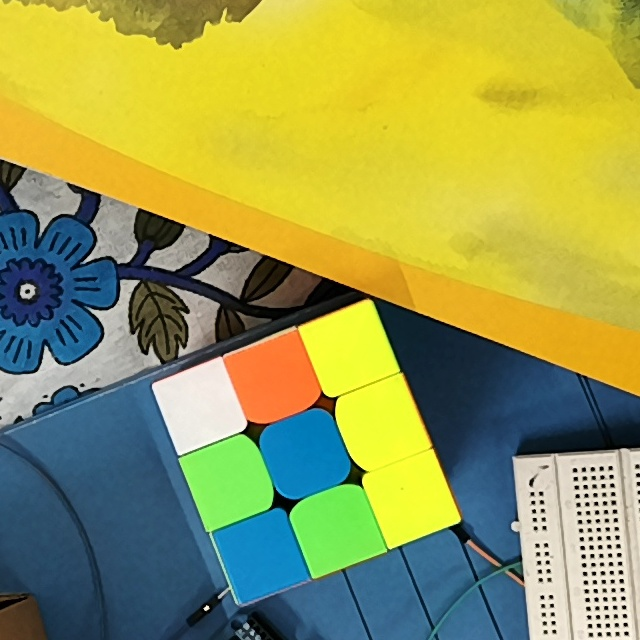tile: (317, 323, 379, 377), (201, 453, 257, 511), (233, 527, 291, 583), (275, 427, 334, 482), (246, 352, 303, 408), (352, 396, 409, 450), (382, 471, 439, 525), (308, 500, 366, 553), (172, 378, 226, 433)
